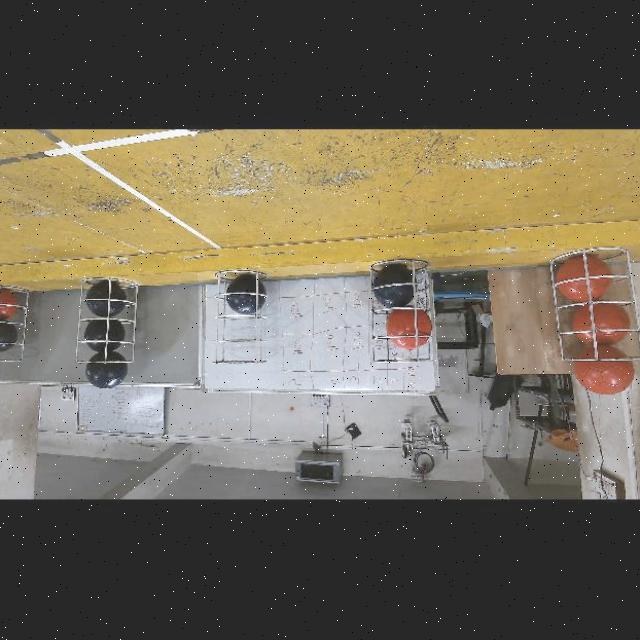P: (373, 265, 414, 307), (85, 351, 129, 390), (225, 275, 266, 315), (85, 280, 126, 318), (84, 320, 126, 354), (0, 323, 18, 354)
R: (574, 345, 635, 396), (557, 256, 612, 304), (572, 304, 630, 346), (386, 309, 432, 351), (0, 289, 18, 322)
S: (546, 248, 640, 366), (366, 258, 434, 366), (75, 276, 141, 366), (212, 268, 270, 366), (0, 286, 30, 364)
